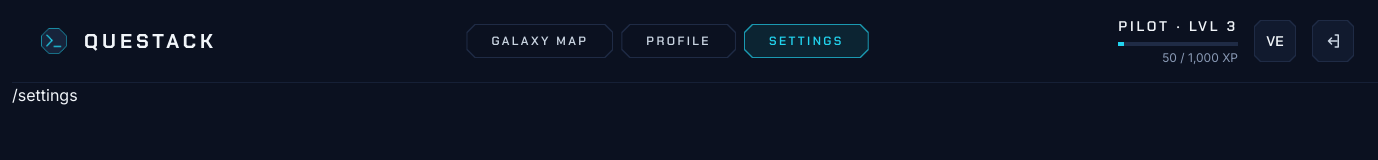
Test case: TopNav › opens the Profile from the pilot’s badge
Click the text "VE" at x=1275, y=41, box x1=1266 y1=31 x2=1284 y2=51
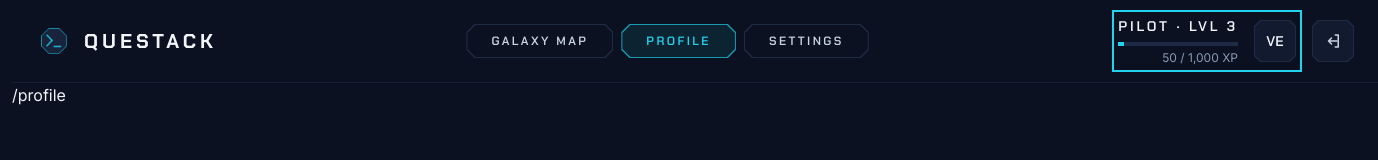
Expected: the text "/profile" is shown, x1=12 y1=85 x2=66 y2=105
